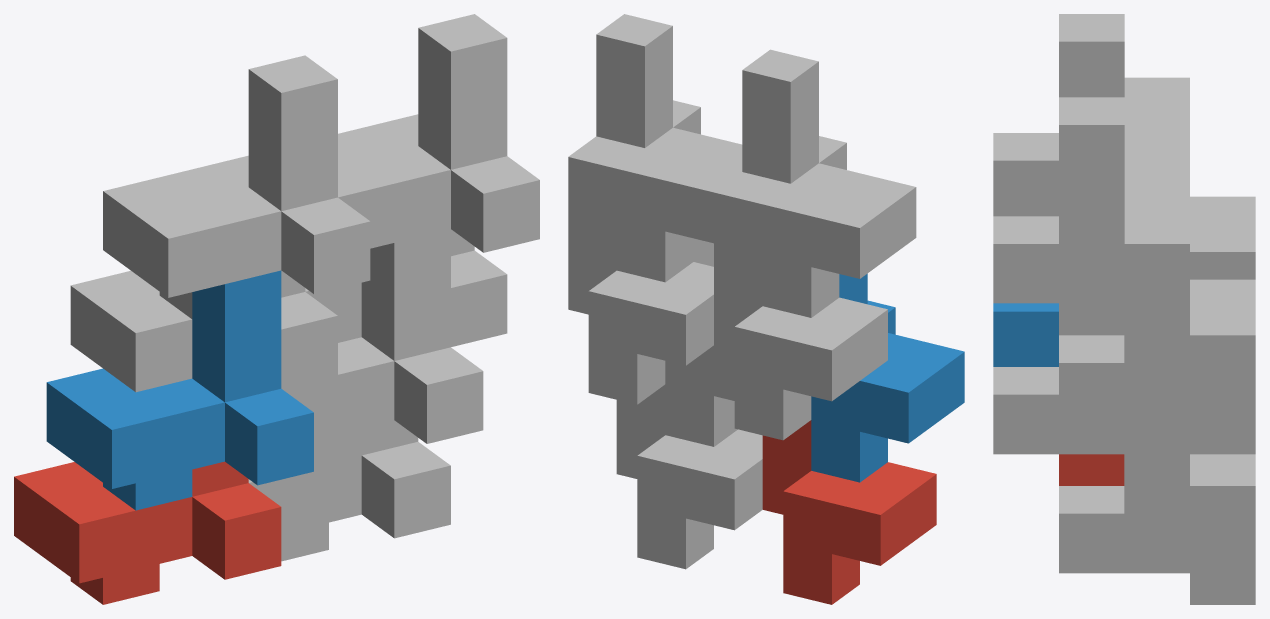
The model's file is tiling.obj.
The picture shows the model from 3 angles, left to right: view 1: azimuth 30°, elevation 25°; view 2: azimuth 150°, elevation 25°; view 3: azimuth 270°, elevation 25°; orthographic projection. The views are drawn at different scales.
Parts seen in each view (by area): view 1: copy_1_domain_4, copy_1_domain_2, copy_1_domain_8, copy_1_domain_6, copy_1_domain_1, copy_1_domain_3, copy_1_domain_5, copy_1_domain_7; view 2: copy_1_domain_4, copy_1_domain_8, copy_1_domain_3, copy_1_domain_7, copy_1_domain_1, copy_1_domain_5, copy_1_domain_2, copy_1_domain_6; view 3: copy_1_domain_7, copy_1_domain_5, copy_1_domain_8, copy_1_domain_4, copy_1_domain_6, copy_1_domain_3, copy_1_domain_2, copy_1_domain_1.
Part boxes in pixels (box(x1,y1,x2,y2)): copy_1_domain_4: box(103, 55, 370, 318); copy_1_domain_2: box(46, 270, 313, 510); copy_1_domain_8: box(338, 14, 539, 252); copy_1_domain_6: box(282, 229, 483, 466); copy_1_domain_1: box(14, 461, 281, 604); copy_1_domain_3: box(70, 155, 337, 392); copy_1_domain_5: box(248, 420, 450, 561); copy_1_domain_7: box(305, 114, 507, 346); copy_1_domain_4: box(742, 49, 916, 317); copy_1_domain_8: box(596, 14, 742, 282); copy_1_domain_3: box(714, 172, 887, 440); copy_1_domain_7: box(568, 136, 713, 404); copy_1_domain_1: box(762, 420, 936, 604); copy_1_domain_5: box(616, 384, 762, 569); copy_1_domain_2: box(811, 273, 964, 482); copy_1_domain_6: box(665, 238, 737, 446); copy_1_domain_7: box(1059, 216, 1255, 454); copy_1_domain_5: box(1059, 422, 1255, 604); copy_1_domain_8: box(993, 97, 1189, 303); copy_1_domain_4: box(993, 14, 1189, 216); copy_1_domain_6: box(993, 303, 1124, 454); copy_1_domain_3: box(1124, 133, 1255, 279); copy_1_domain_2: box(993, 303, 1058, 366); copy_1_domain_1: box(1059, 454, 1124, 485).
Bounding box in the file's own units: 7 × 9 × 4.
